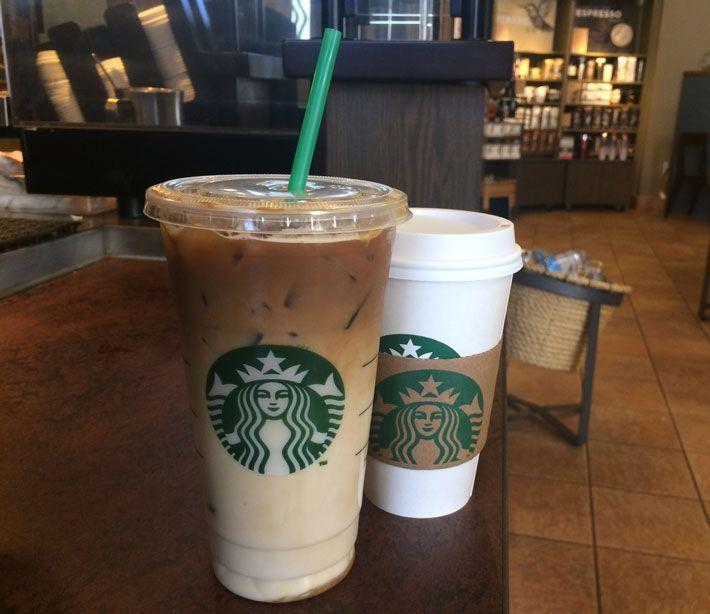cup-disposable: (139, 174, 407, 602), (357, 206, 525, 518)
